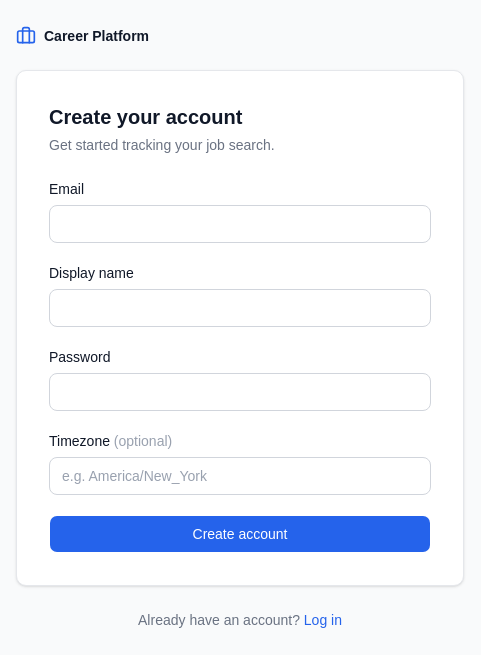
Test: RegisterPage › shows a client-side validation error and does not submit when password is too short
This screenshot has width=481, height=655.
In the field labelled "Email": (240, 224) [49,205,431,243], type "ada@example.com"
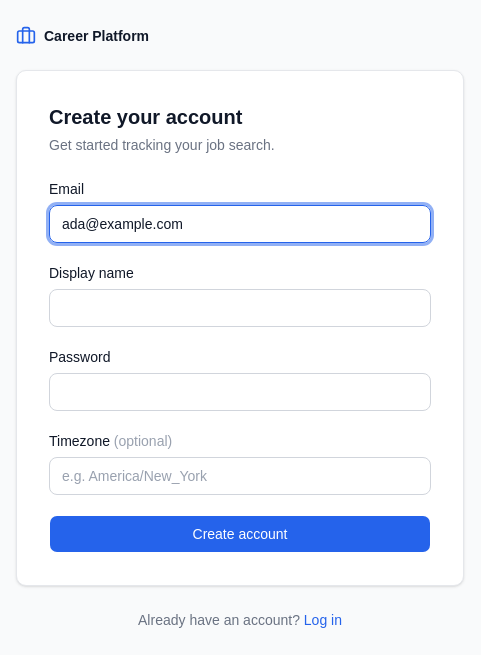
In the field labelled "Display name": (240, 308) [49,289,431,327], type "Ada Lovelace"
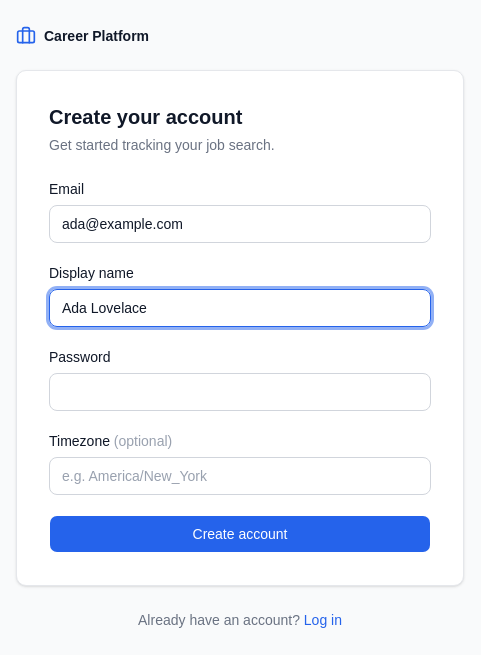
In the password field labelled "Password": (240, 392) [49,373,431,411], type "short"
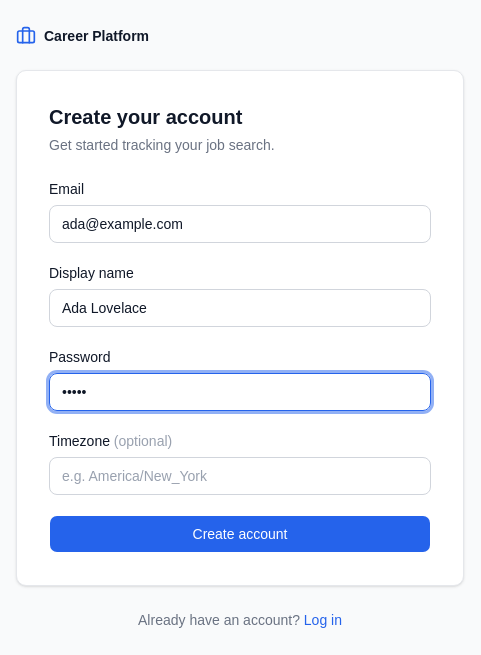
Click the button "Create account": click(240, 534) [49,515,431,553]
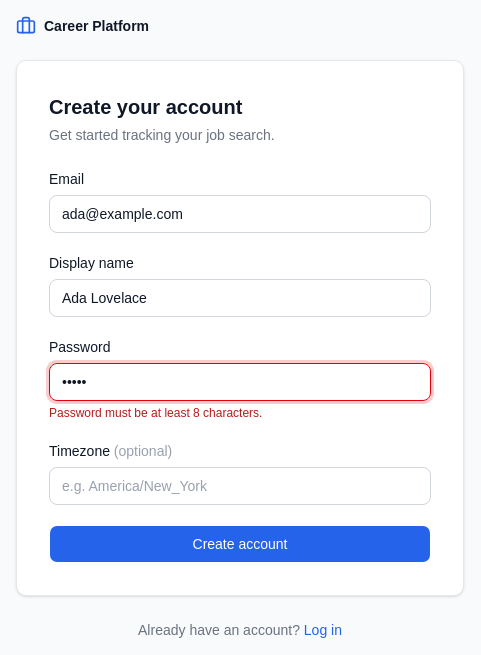
Expected: the text "Password must be at least 8 characters." is shown, [49,406,262,420]
